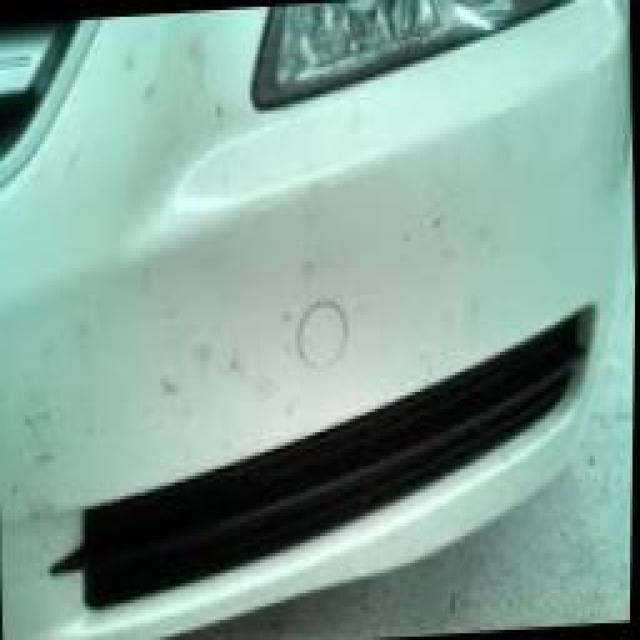Bumper: (25, 506, 99, 596)
